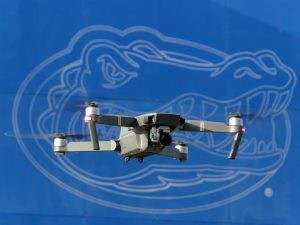maybay_khongnguoilai: (25, 88, 248, 163)
